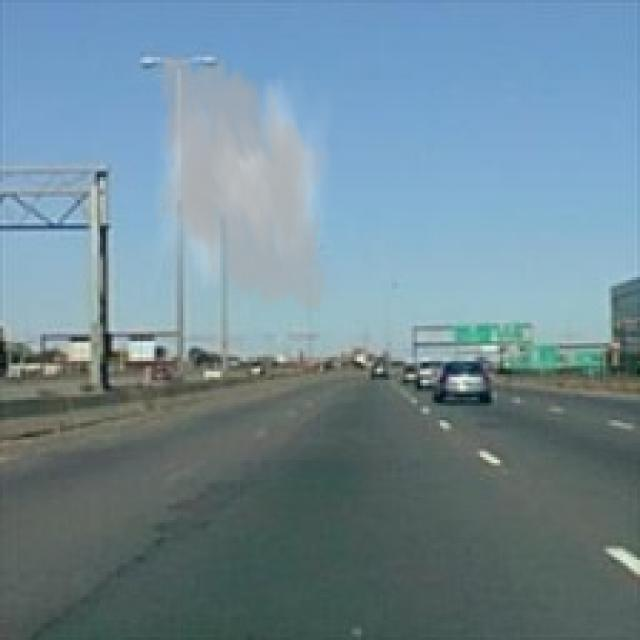smoke: (140, 43, 340, 323)
